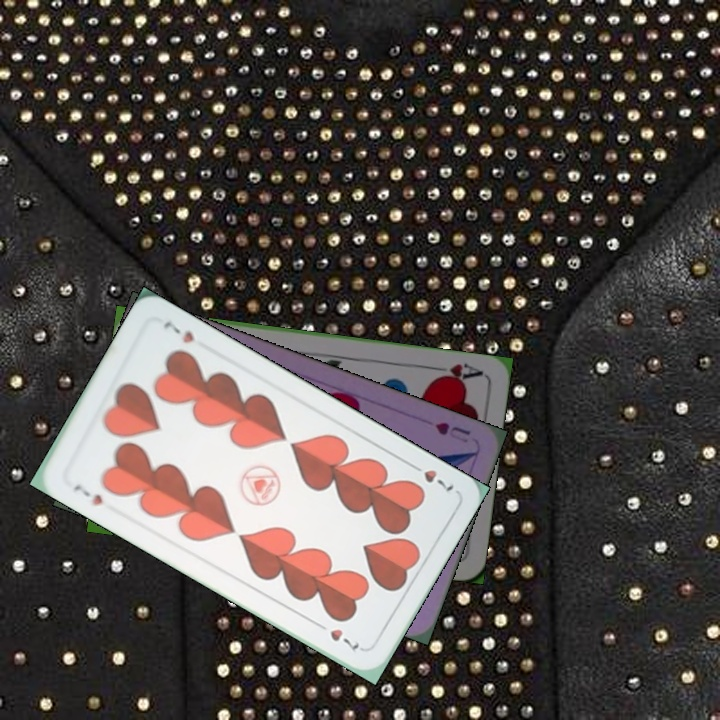H7: (405, 458, 457, 494), (69, 479, 106, 509)
HA: (426, 359, 485, 386)
HU: (431, 418, 473, 438)
